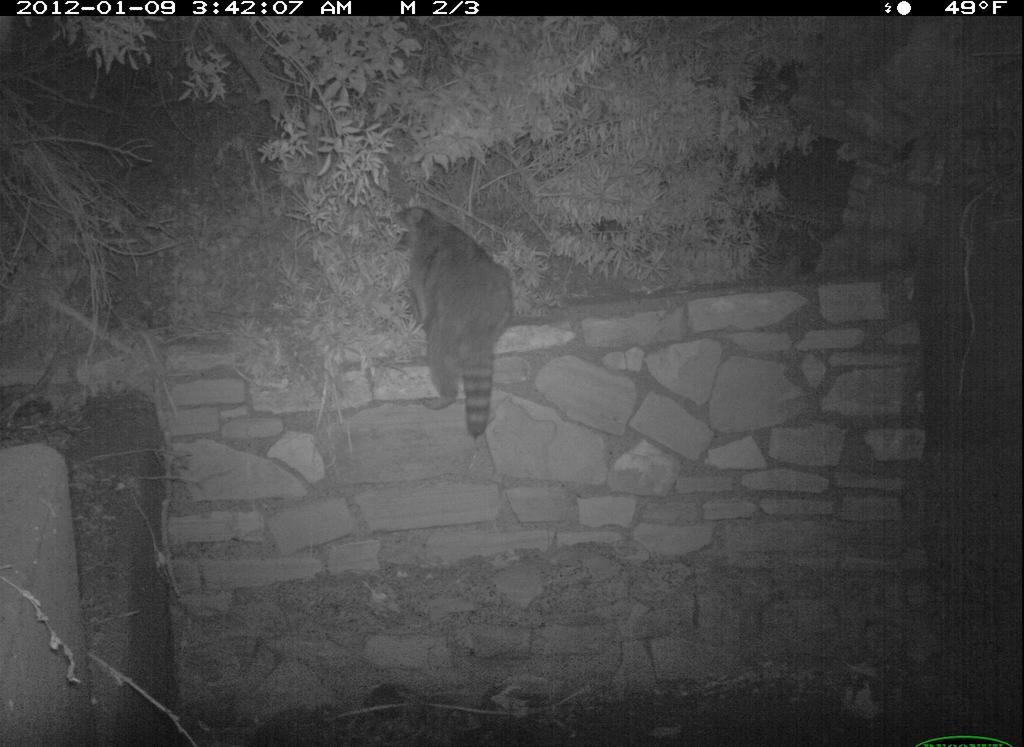raccoon: (379, 201, 527, 447)
